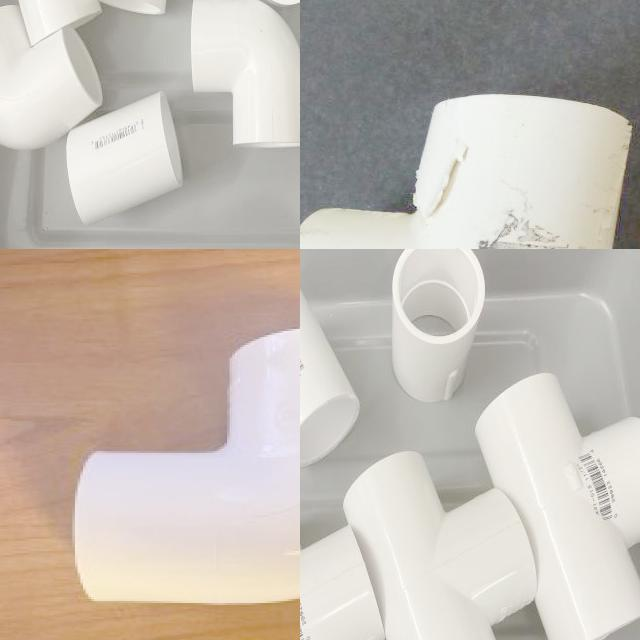Defective: (427, 150, 477, 217)
L Joint: (189, 0, 300, 151), (0, 5, 104, 153)
T Joint: (300, 94, 633, 249), (473, 373, 640, 640), (341, 452, 538, 640), (300, 525, 386, 640)
